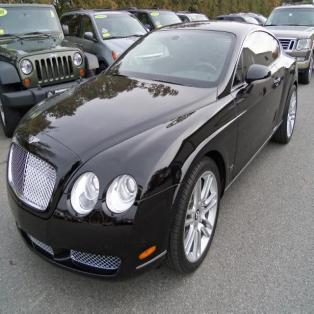Auto: (6, 21, 297, 276)
